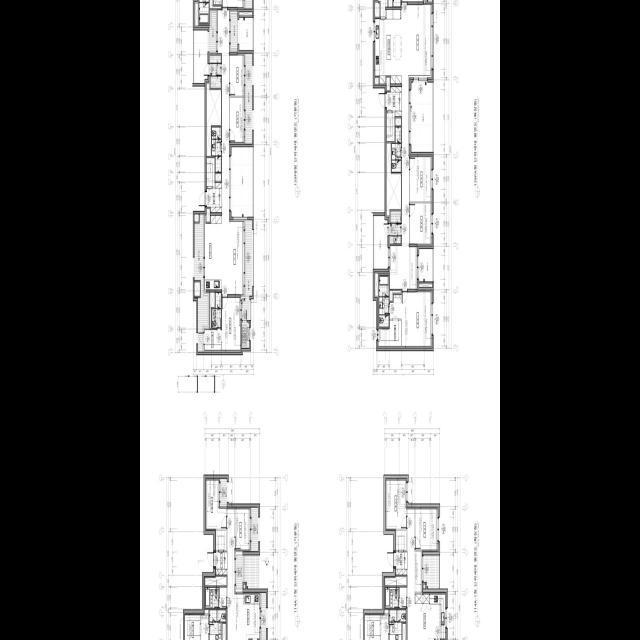background: (140, 0, 500, 640)
space_balconi: (194, 214, 208, 351), (411, 82, 432, 151), (231, 147, 252, 216), (242, 219, 252, 320), (374, 215, 388, 268), (194, 30, 208, 82), (246, 53, 252, 143), (244, 555, 259, 588), (424, 555, 439, 588), (419, 248, 432, 281), (239, 17, 252, 50), (390, 211, 401, 243), (210, 55, 221, 87), (251, 507, 258, 551), (209, 12, 216, 51), (231, 13, 238, 48), (236, 554, 243, 588), (220, 478, 227, 504)
space_bedroom: (390, 291, 432, 345), (206, 478, 226, 529), (386, 478, 406, 528), (410, 156, 432, 201), (415, 507, 438, 549), (222, 297, 240, 349), (410, 203, 432, 243), (235, 507, 250, 549), (230, 97, 244, 142), (230, 55, 244, 95)
space_dressroom: (378, 320, 401, 345), (365, 613, 380, 640), (185, 613, 200, 640), (205, 329, 222, 349)
space_front: (205, 182, 222, 212), (387, 86, 402, 116), (215, 551, 227, 574), (396, 551, 407, 574)
space_kitchen: (375, 9, 401, 83), (415, 593, 445, 638), (205, 215, 222, 289), (235, 594, 260, 638)
space_living_room: (390, 4, 432, 288), (218, 9, 244, 294), (407, 507, 434, 640), (227, 507, 249, 640)
space_other: (387, 143, 401, 215), (207, 83, 221, 155), (415, 551, 422, 592), (387, 112, 395, 141), (207, 157, 215, 186), (215, 530, 226, 550), (209, 292, 215, 328), (396, 530, 406, 550), (205, 576, 227, 585), (385, 576, 406, 585), (378, 0, 388, 16), (220, 587, 227, 607), (400, 587, 406, 607), (390, 290, 401, 300), (210, 0, 221, 8), (194, 282, 200, 295), (375, 2, 380, 16), (222, 623, 226, 640), (375, 273, 378, 295), (195, 3, 198, 25), (419, 283, 433, 287), (239, 11, 253, 15), (386, 77, 390, 90), (206, 208, 210, 221), (395, 118, 401, 125), (215, 173, 221, 180), (194, 214, 199, 221), (388, 0, 392, 6), (375, 77, 379, 83), (204, 609, 209, 613), (384, 609, 389, 613), (424, 584, 425, 588), (244, 584, 245, 588)
space_outdoor_room: (242, 322, 249, 347)
space_toilet: (389, 610, 406, 640), (379, 275, 389, 326), (210, 609, 226, 640), (392, 127, 401, 171), (212, 127, 221, 171), (212, 292, 221, 327), (205, 587, 219, 607), (385, 587, 399, 607), (199, 0, 209, 23)
